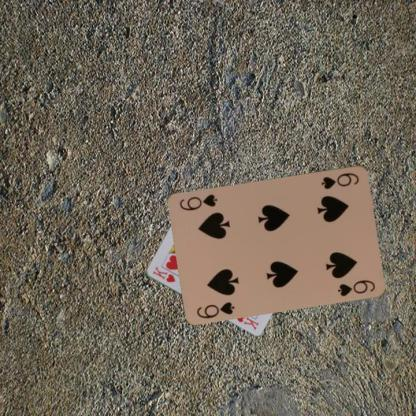6s: (194, 298, 236, 320), (318, 170, 361, 190)
Kh: (150, 264, 176, 284)
